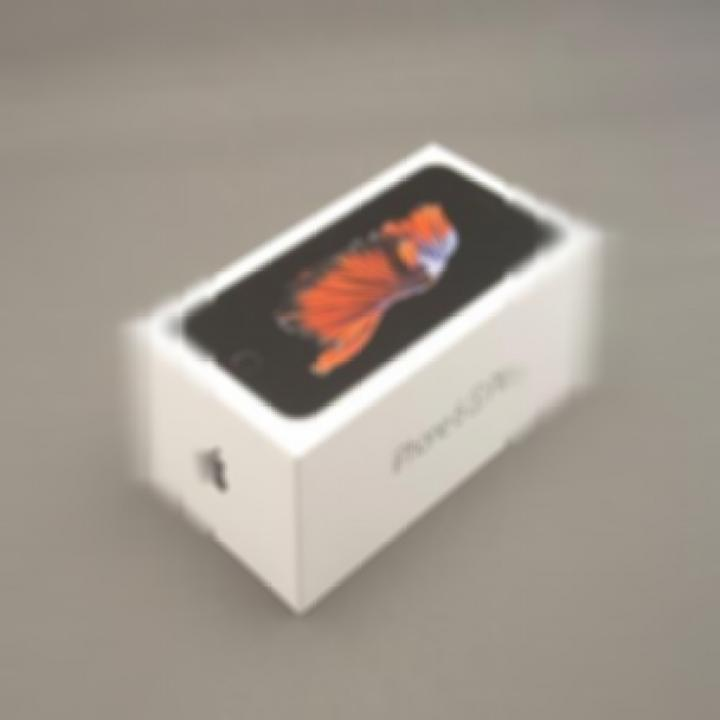box: (133, 138, 618, 611)
